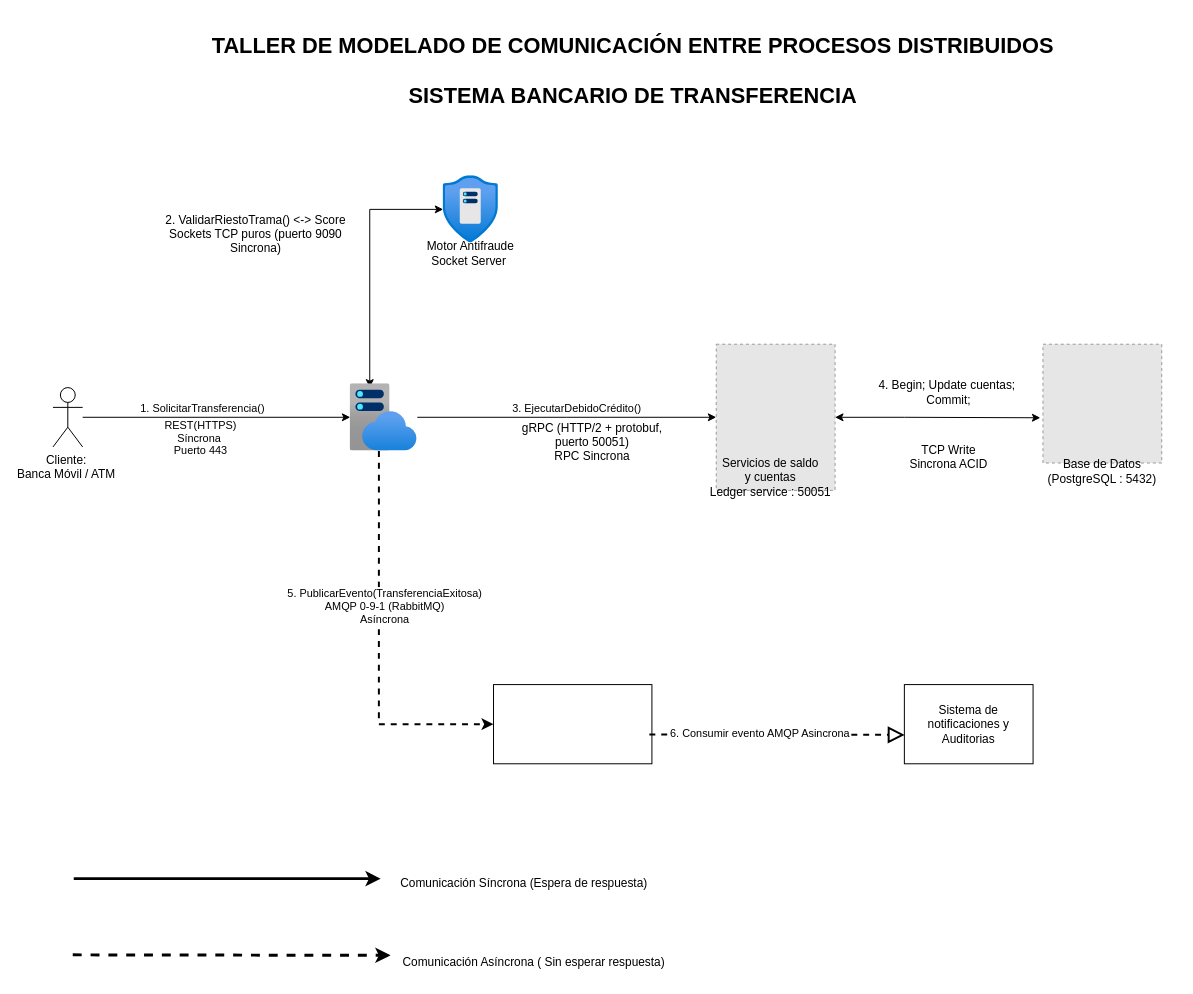
Some shapes in this 1193 by 994 pixel diagram are drawn without their labels. Grey dashed boxes stand in for pictures. Here are the shapes that lost their labels. From the top down, the box of each, then its label:
(349, 383, 417, 450): Servidor de Aplicación (Nginx API Gateway / Orquestador Central)
(493, 684, 652, 764): Brokerde Mensajería (RabbitMQ :5672)
